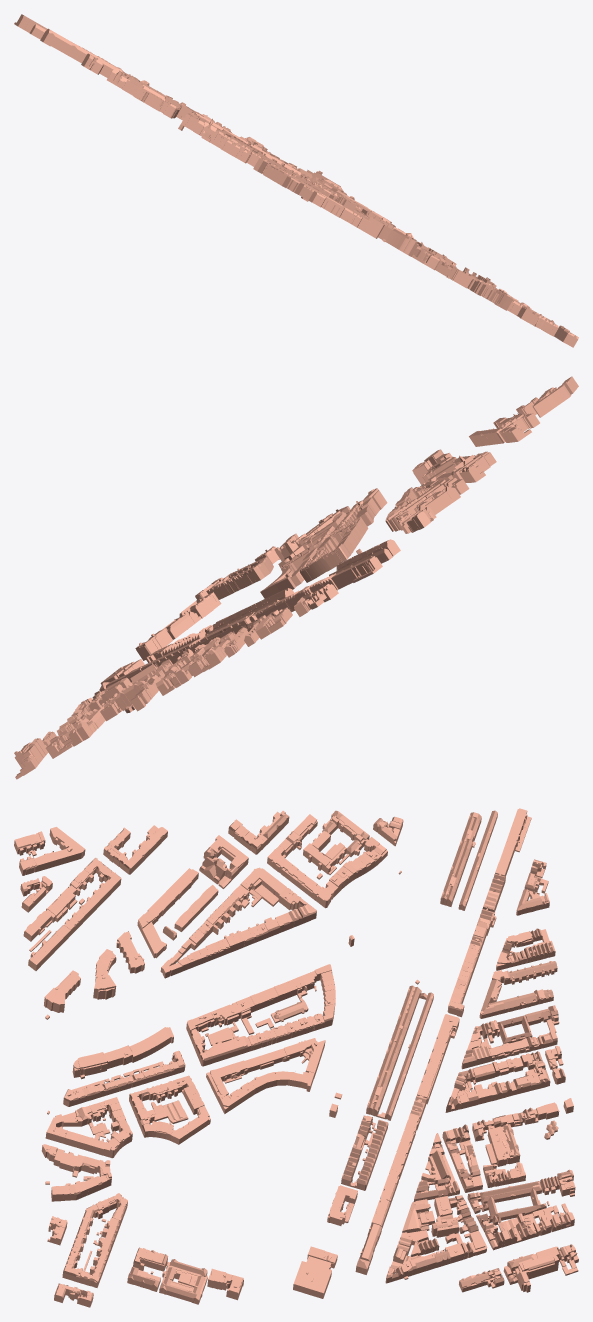
The picture shows the model from 3 angles, top to bottom: view 1: azimuth 30°, elevation 25°; view 2: azimuth 150°, elevation 25°; view 3: azimuth 270°, elevation 25°; orthographic projection. The views are drawn at different scales.
Bounding box in the file's own units: 1.77e+07 × 1.29e+07 × 2.11e+07.
